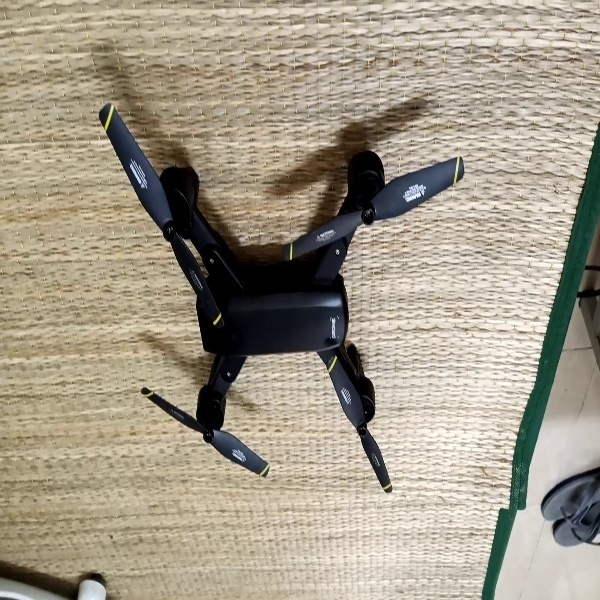drone: (92, 101, 465, 500)
